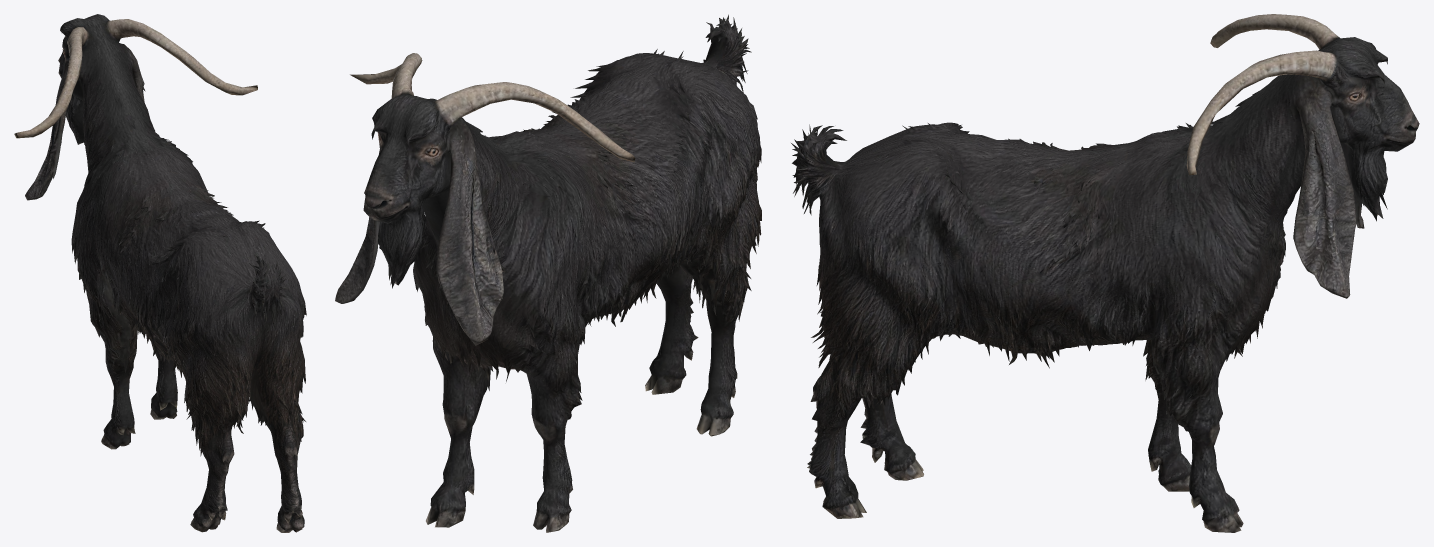
Rendered from goat.glb.
3 views of the same model, side by side, from view 1: azimuth 30°, elevation 25°; view 2: azimuth 150°, elevation 25°; view 3: azimuth 270°, elevation 25° (orthographic). The views are drawn at different scales.
Parts seen in each view (by area): view 1: tripo_node_abbf5086-960c-4680-9014-bbfc31a40a42; view 2: tripo_node_abbf5086-960c-4680-9014-bbfc31a40a42; view 3: tripo_node_abbf5086-960c-4680-9014-bbfc31a40a42.
Boxes of the visible parts, x1,y1,x2,y2 form: tripo_node_abbf5086-960c-4680-9014-bbfc31a40a42: (14,14,306,532); tripo_node_abbf5086-960c-4680-9014-bbfc31a40a42: (335,14,761,532); tripo_node_abbf5086-960c-4680-9014-bbfc31a40a42: (791,14,1419,532).
Bounding box in the file's own units: 0.5305 × 0.8171 × 0.9799.
1 material, 1 textured.
